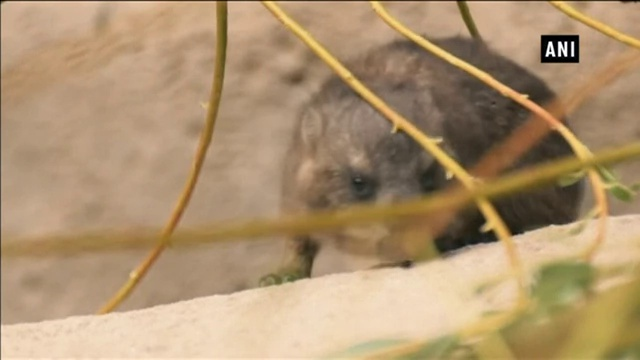Rock Hyrex: (256, 35, 585, 289)
